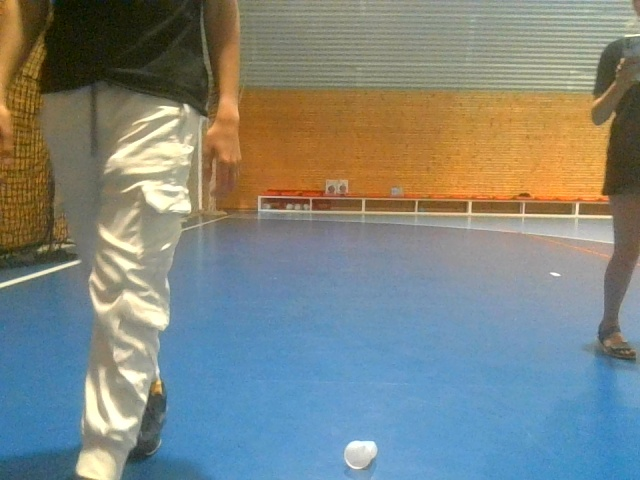plasticcup: (342, 439, 380, 470)
